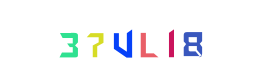3: (31, 0, 111, 80)
7: (56, 0, 136, 80)
8: (149, 0, 229, 80)
I: (117, 0, 197, 80)
L: (94, 0, 174, 80)
V: (84, 0, 164, 80)
